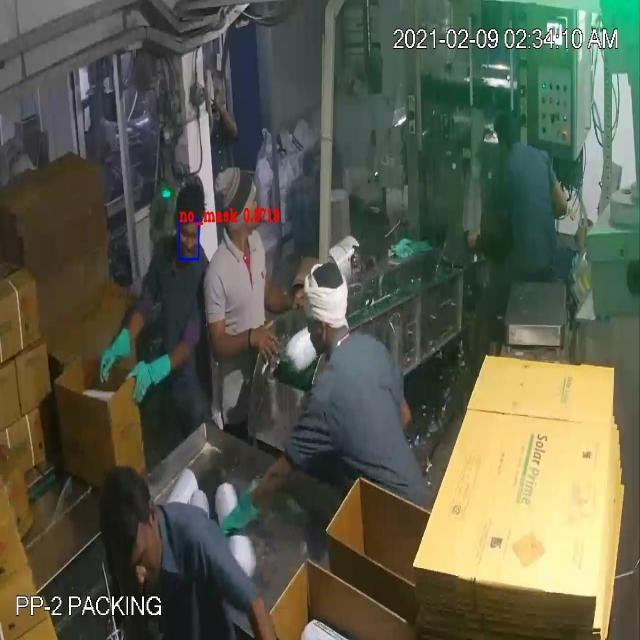Gloves: (54, 60, 283, 506)
